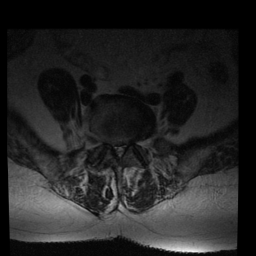CCS_severe_stenosis: (116, 141, 122, 161)
LFS_severe_stenosis: (128, 135, 134, 151)
LLS_severe_stenosis: (122, 139, 127, 155)
RFS_severe_stenosis: (106, 134, 112, 152)
RLS_severe_stenosis: (112, 140, 117, 157)
